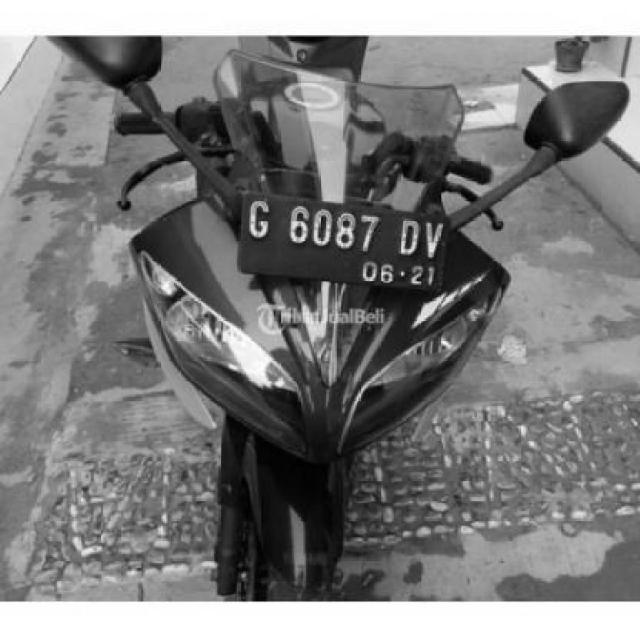0: (311, 208, 332, 246)
6: (288, 204, 310, 246)
7: (359, 212, 381, 256)
8: (337, 208, 357, 254)
D: (396, 217, 421, 257)
G: (240, 193, 274, 248)
Plate: (239, 192, 447, 291)
V: (424, 220, 450, 265)
